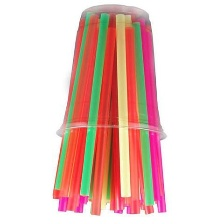drinking_straw: (110, 9, 133, 199)
glass: (49, 1, 172, 143)
